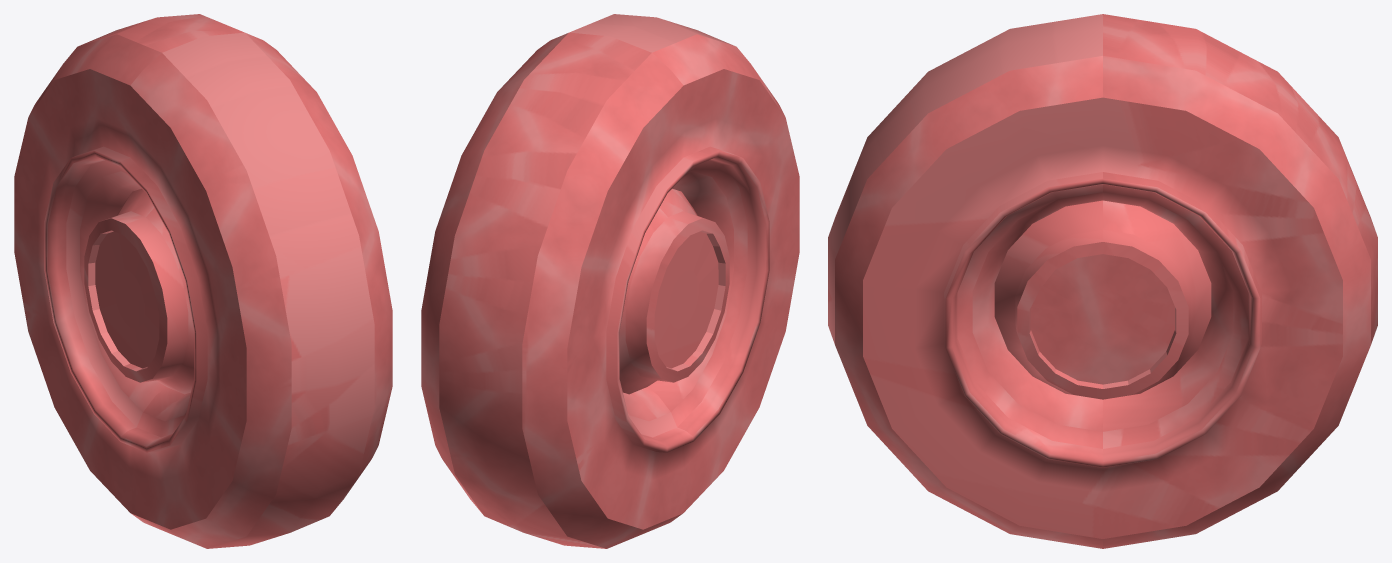
Rendered from Tire.fbx.
3 views of the same model, side by side, from view 1: azimuth 30°, elevation 25°; view 2: azimuth 150°, elevation 25°; view 3: azimuth 270°, elevation 25° (orthographic). The views are drawn at different scales.
Visible parts, largest first — view 1: Wheel_F3; view 2: Wheel_F3; view 3: Wheel_F3.
Boxes of the visible parts, box(x1,y1,x2,y2) form: Wheel_F3: box(14, 14, 392, 548); Wheel_F3: box(421, 14, 799, 548); Wheel_F3: box(828, 14, 1377, 548).
Size of the model in its own units: 2.94 by 8.31 by 8.18.
